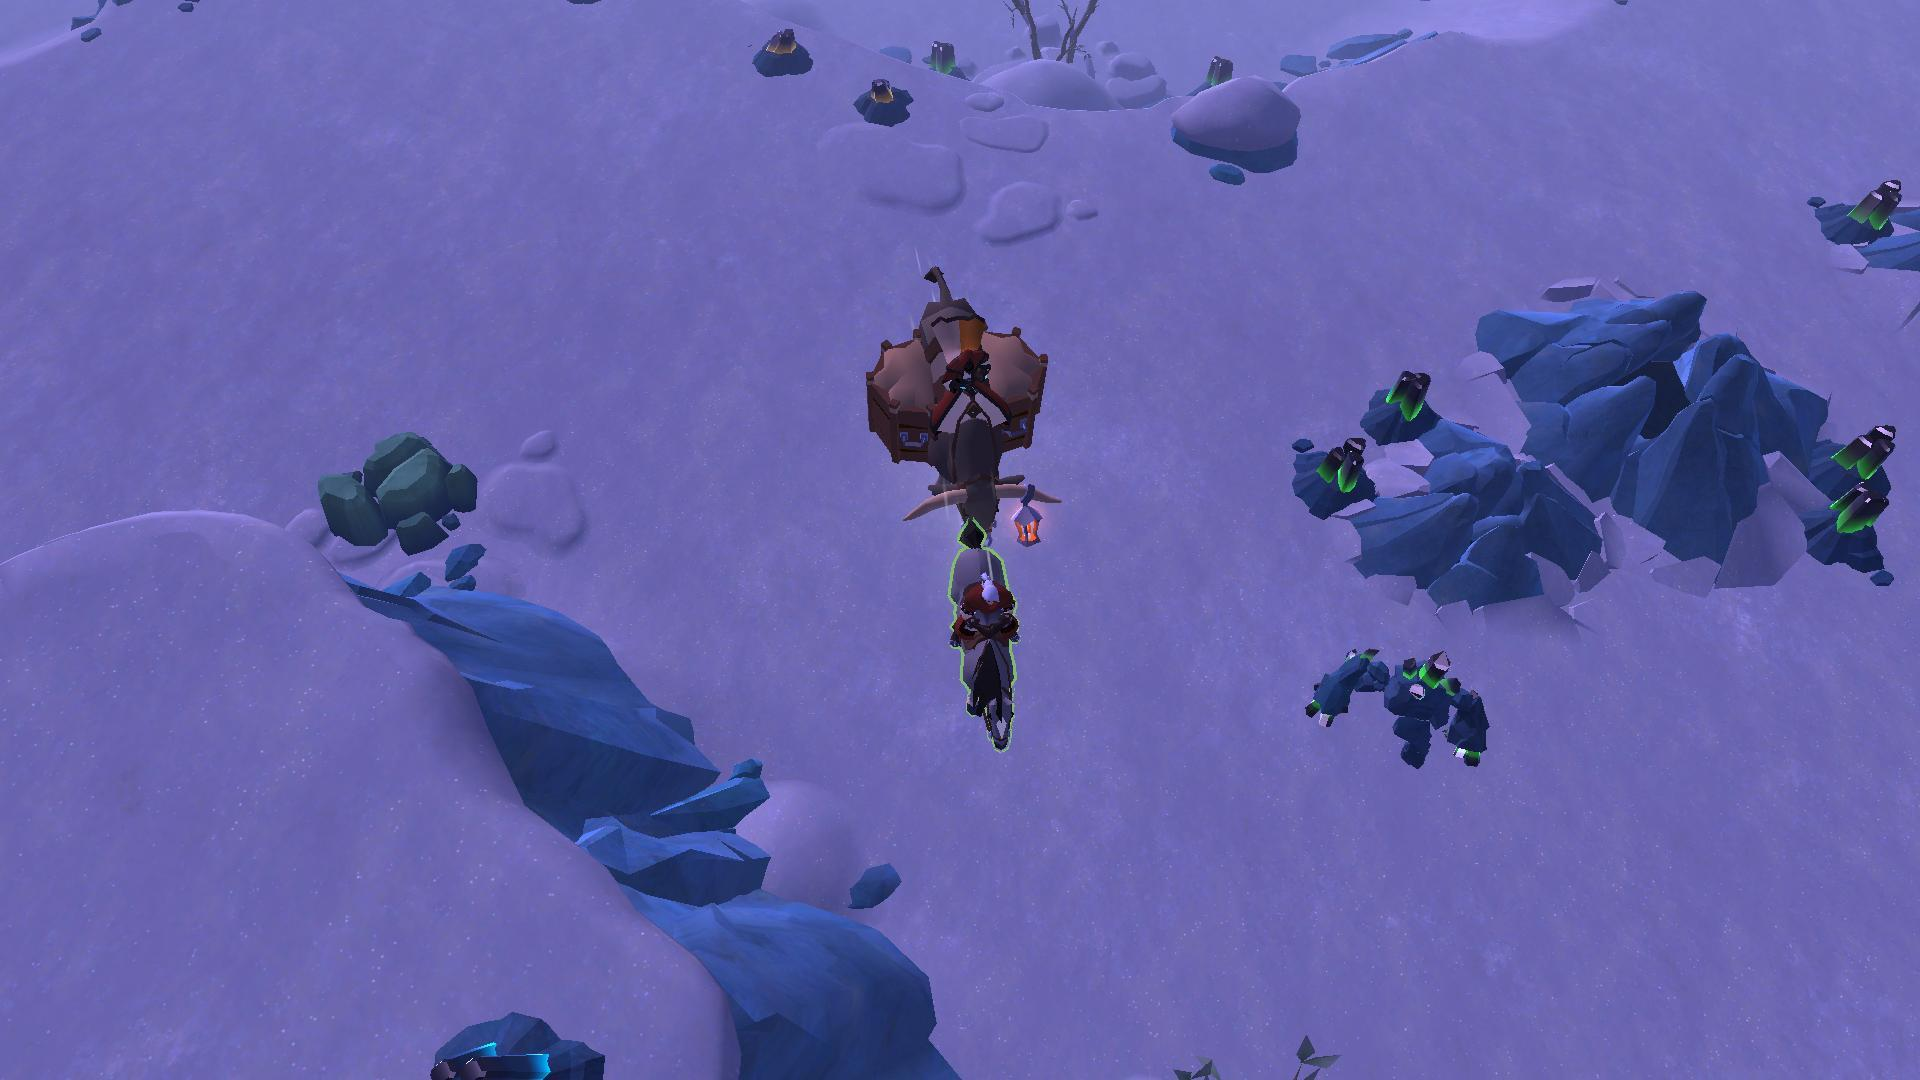ore_t3: (1313, 426, 1370, 498), (1841, 178, 1905, 240), (1836, 469, 1888, 545), (1836, 422, 1898, 473), (1381, 367, 1431, 425), (926, 32, 959, 83), (1201, 49, 1236, 95)
ore_t4: (427, 1034, 554, 1080)
rock_t3: (298, 430, 506, 553)
